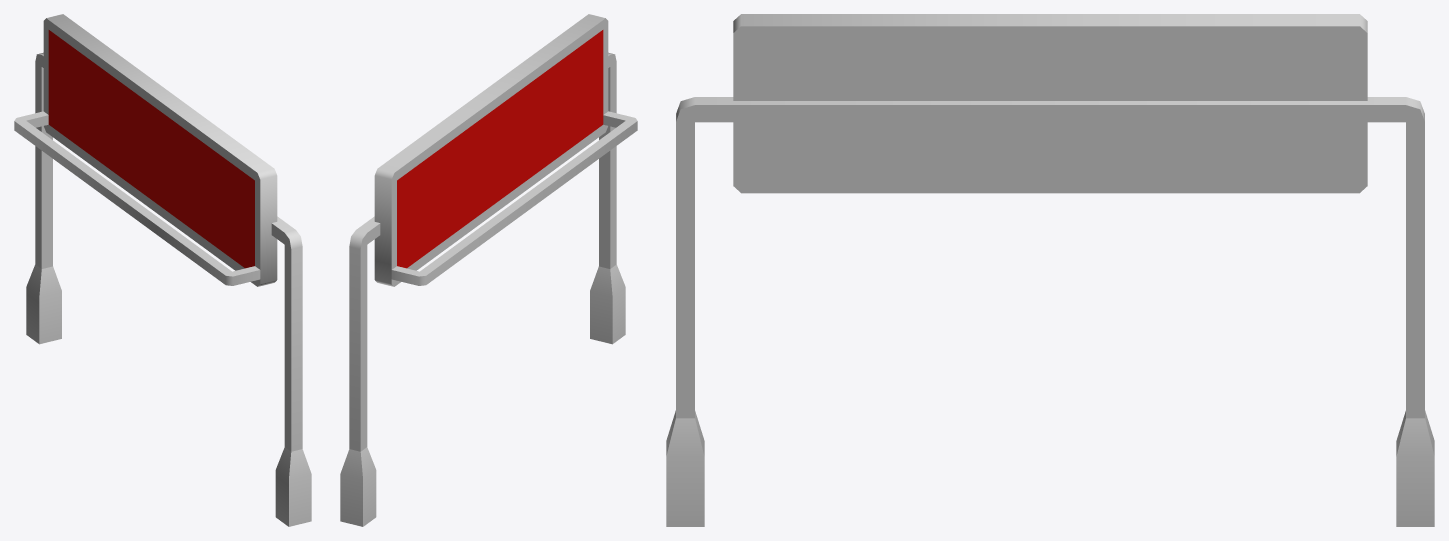
Rendered from func-finish.glb.
3 renders of one model, left to right at view 1: azimuth 30°, elevation 25°; view 2: azimuth 150°, elevation 25°; view 3: azimuth 270°, elevation 25°, orthographic. The views are drawn at different scales.
Parts seen in each view (by area): view 1: finish; view 2: finish; view 3: finish.
Boxes of the visible parts, x1=… form: finish: x1=14, y1=14, x2=311, y2=526; finish: x1=340, y1=14, x2=637, y2=526; finish: x1=666, y1=14, x2=1434, y2=526.
Size of what is drawn, in the model's own units: 0.1324 by 0.7074 by 1.
